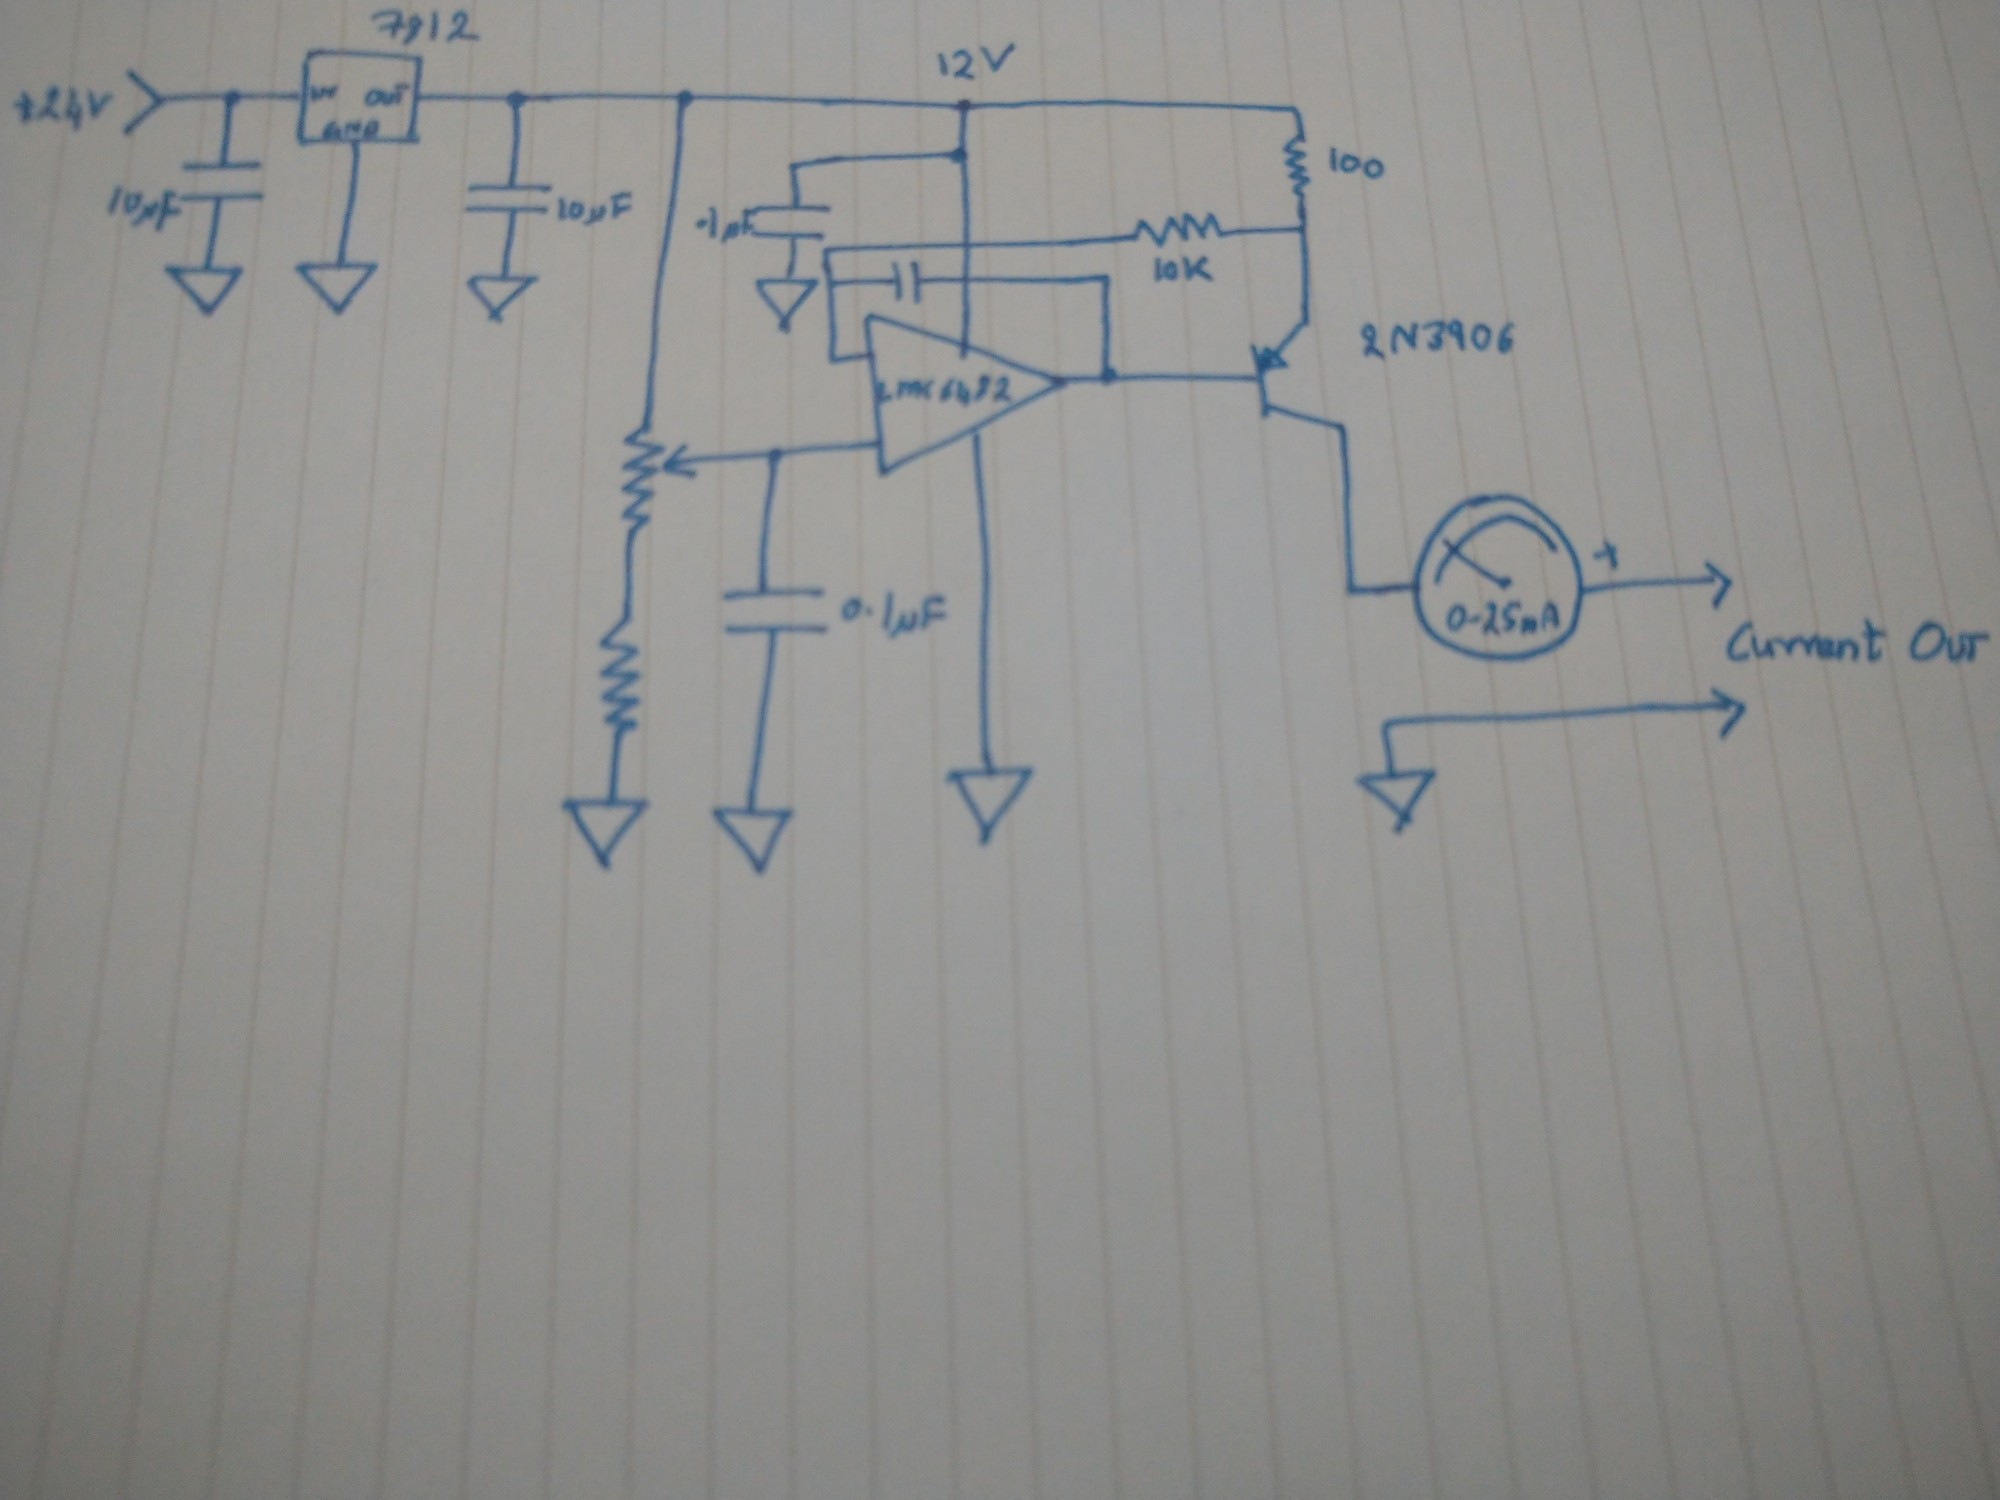capacitor.unpolarized: (718, 574, 831, 651), (176, 153, 271, 205), (458, 175, 554, 225), (754, 197, 836, 246), (885, 257, 934, 309)
crossover: (954, 269, 980, 291), (954, 236, 978, 254)
gnd: (939, 761, 1050, 849), (557, 791, 661, 873), (707, 799, 813, 878), (1354, 764, 1443, 837), (290, 255, 383, 318), (161, 257, 246, 321), (457, 269, 543, 328), (753, 274, 822, 336)
junction: (501, 87, 532, 113), (950, 93, 980, 118), (945, 143, 973, 169), (219, 85, 247, 110), (1339, 577, 1362, 603), (1096, 366, 1121, 388), (672, 88, 698, 110), (820, 348, 844, 370), (762, 443, 784, 466), (783, 156, 806, 176), (1291, 217, 1312, 239), (1373, 714, 1395, 733), (1094, 268, 1117, 285), (1287, 99, 1307, 117), (819, 243, 838, 258), (820, 276, 839, 291)
operational_amplifier: (858, 310, 1076, 484)
probe.current: (1405, 485, 1594, 670)
resistor: (589, 610, 647, 737), (1126, 206, 1228, 249), (1279, 131, 1317, 199)
resistor.adjustable: (609, 418, 706, 540)
terminal: (118, 65, 165, 140), (1702, 679, 1751, 741), (1696, 555, 1742, 610)
text: (1718, 616, 1994, 673), (1357, 314, 1523, 366), (835, 585, 954, 643), (8, 80, 115, 137), (369, 5, 490, 50), (874, 370, 1016, 405), (1444, 596, 1565, 635), (102, 183, 184, 236), (931, 39, 1020, 85), (553, 189, 636, 232), (687, 203, 756, 247), (1320, 143, 1387, 186), (1146, 252, 1216, 288), (321, 117, 383, 139), (364, 80, 409, 107), (309, 84, 340, 102)
transistor: (1246, 315, 1353, 438)
voltage.dc_regulator: (290, 43, 428, 154)
